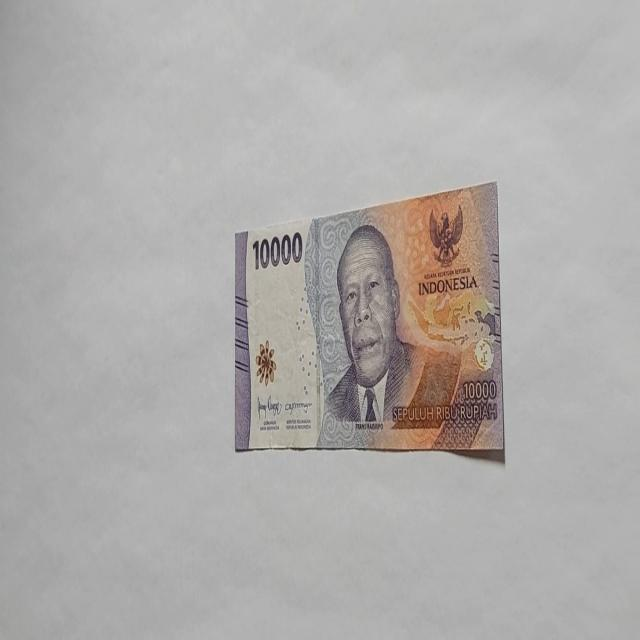sepuluh ribu rupiah: (233, 179, 504, 457)
